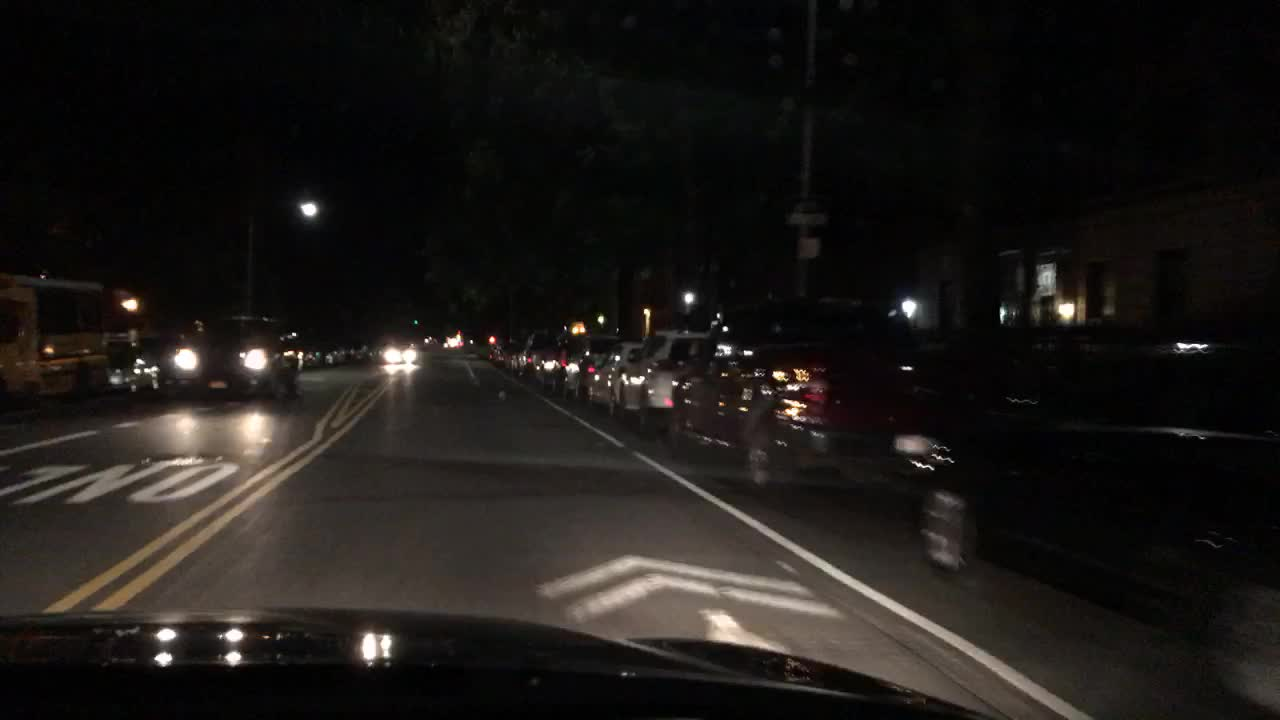bus: (0, 272, 147, 403)
car: (910, 323, 1279, 581), (669, 297, 914, 491), (166, 312, 299, 401), (616, 327, 709, 427), (584, 338, 642, 430), (560, 331, 619, 401), (107, 352, 164, 397), (534, 332, 573, 392), (520, 329, 549, 376), (381, 341, 418, 369), (501, 334, 519, 376), (301, 346, 326, 369), (487, 335, 505, 363), (322, 347, 343, 368), (343, 342, 355, 366), (442, 333, 462, 347), (354, 342, 366, 363), (370, 346, 384, 364)
traffic light: (411, 316, 420, 326)
traffic sign: (787, 208, 827, 225), (795, 238, 820, 260)
